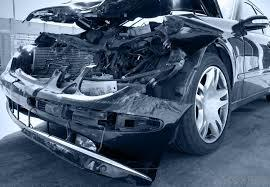fender-dent: (176, 13, 231, 52)
front-bumper-dent: (4, 70, 124, 145)
